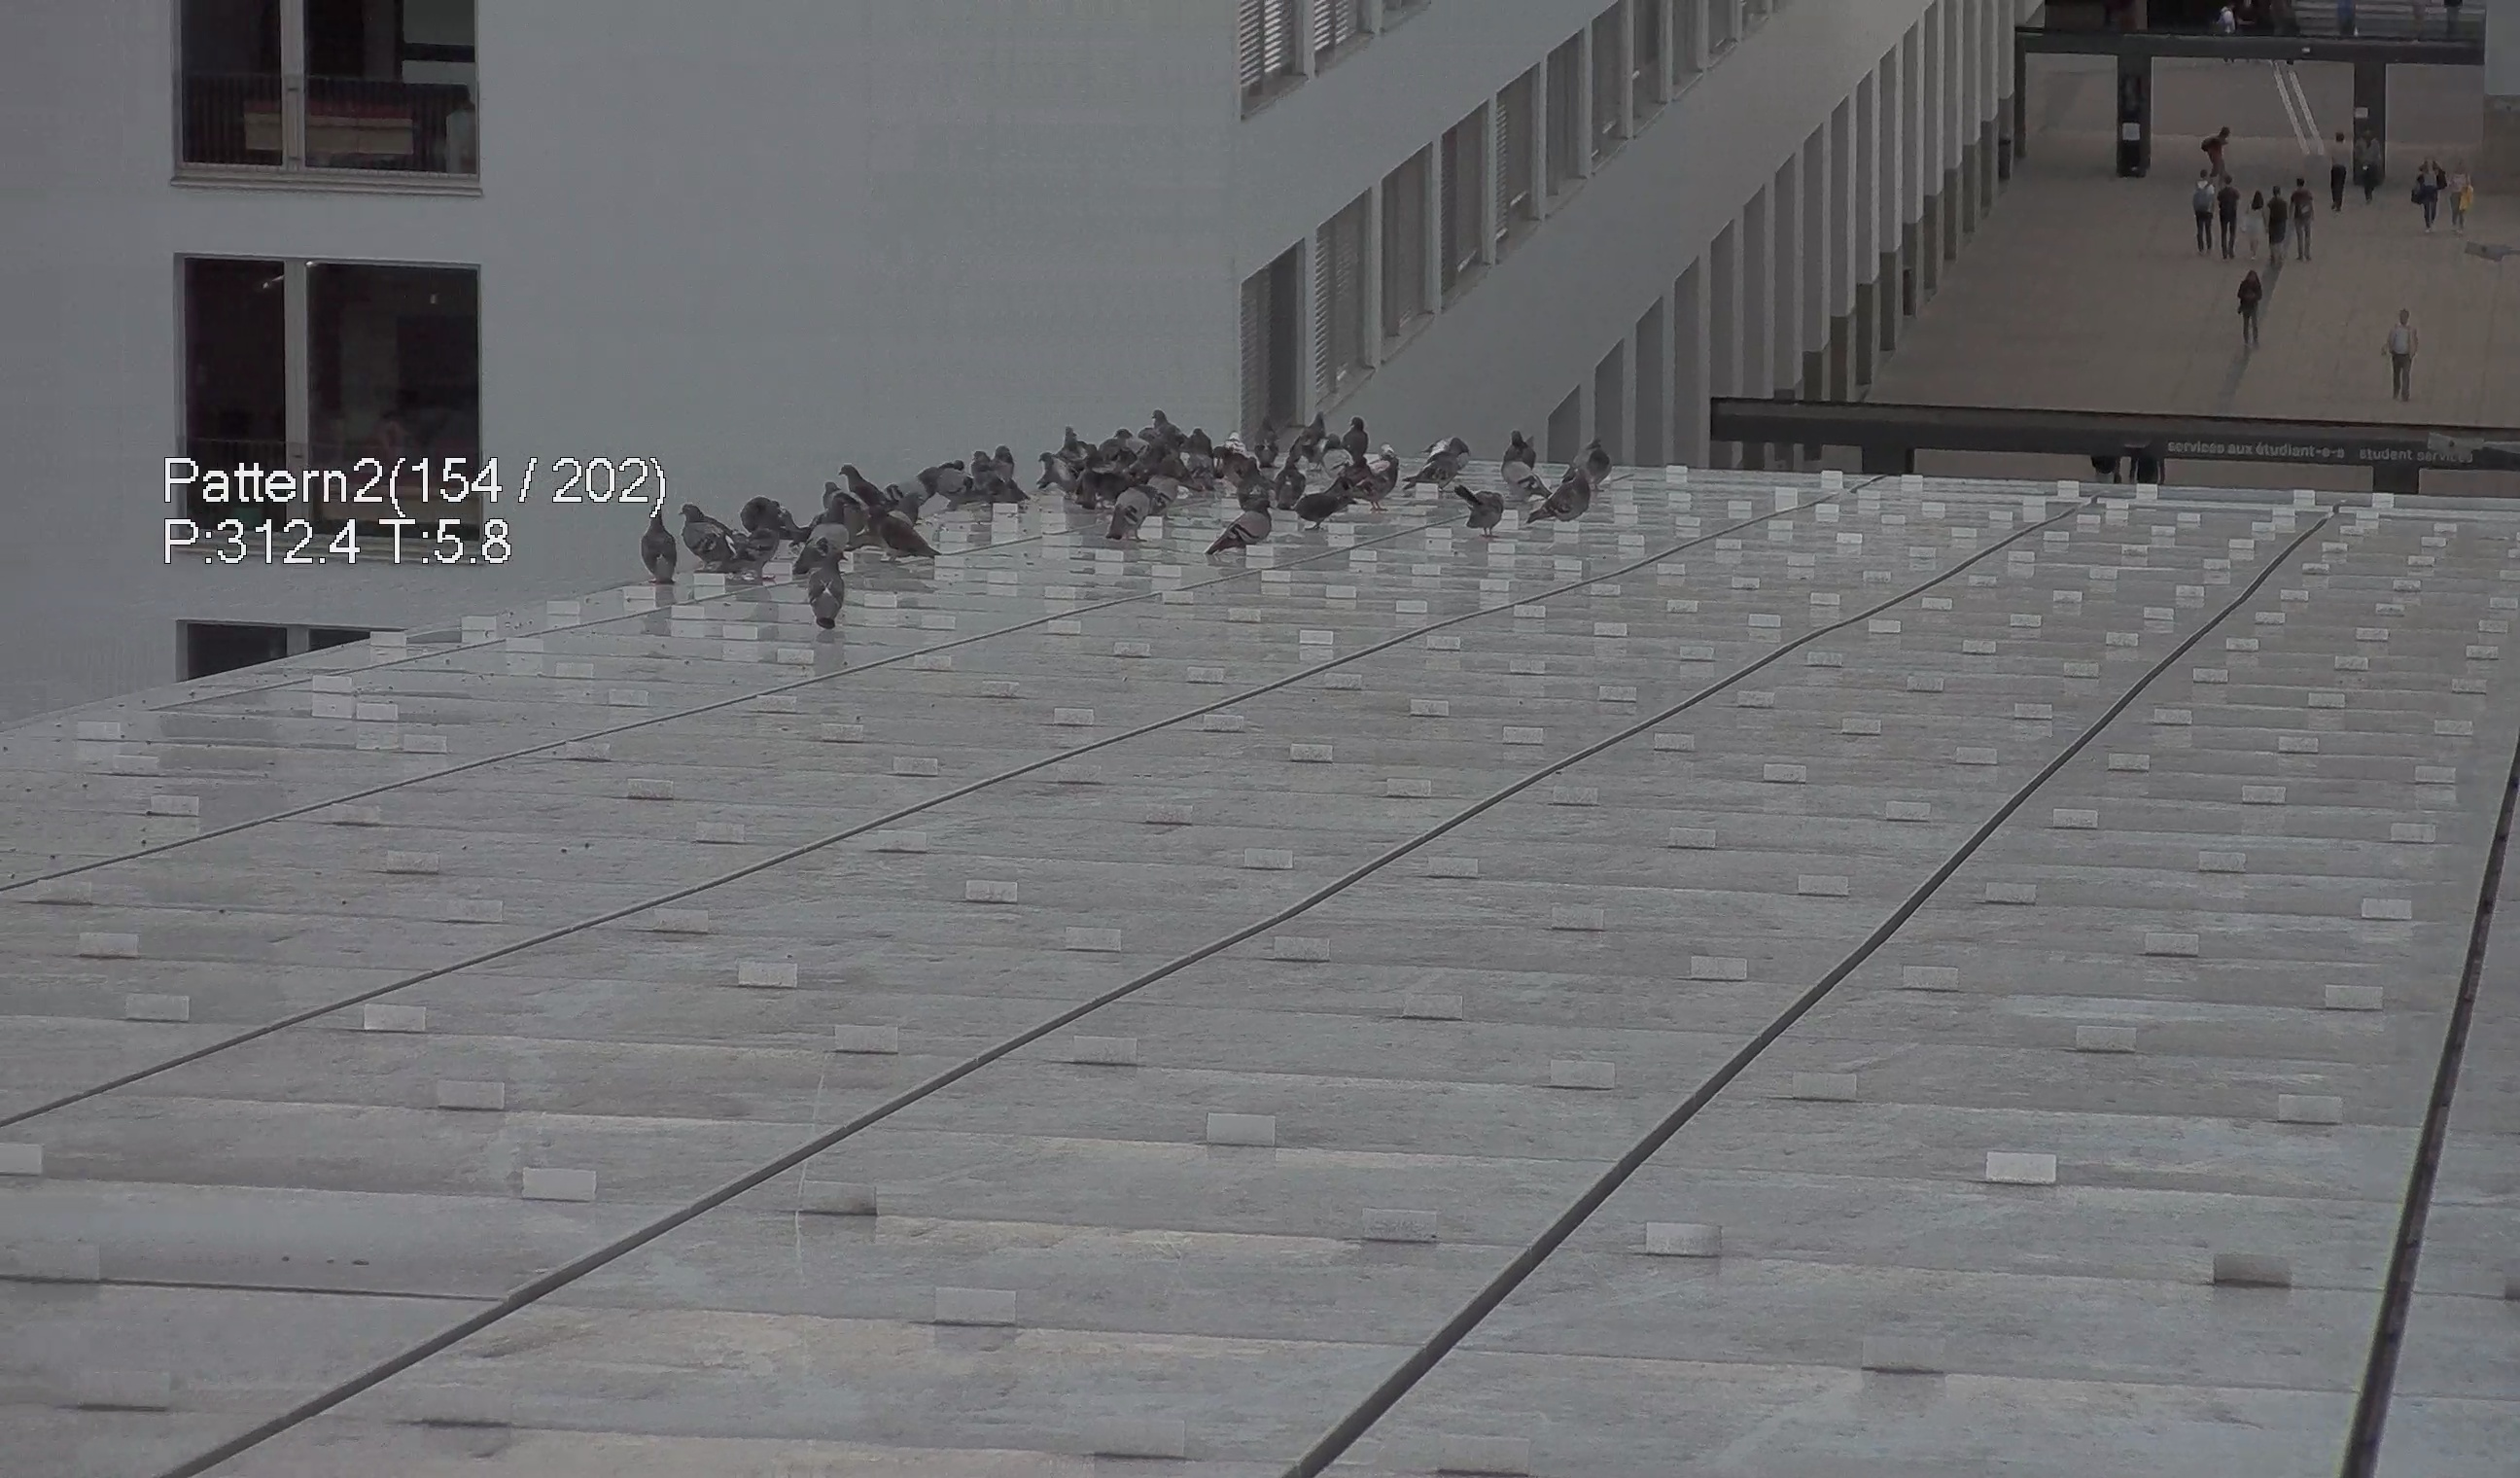Pigeon: (870, 493, 943, 577), (732, 486, 814, 551), (679, 496, 740, 577), (628, 500, 682, 586), (1097, 477, 1161, 545), (800, 544, 849, 630), (1206, 500, 1277, 558), (1526, 472, 1597, 530), (1395, 449, 1467, 496), (1291, 487, 1372, 530), (879, 459, 946, 507), (1451, 486, 1507, 538), (1569, 429, 1613, 487), (1491, 456, 1553, 496), (1029, 452, 1083, 493), (832, 459, 883, 500), (1298, 405, 1335, 450), (1254, 405, 1280, 468), (1342, 410, 1375, 457), (1147, 403, 1187, 442), (1505, 428, 1537, 461), (1053, 415, 1076, 454)
